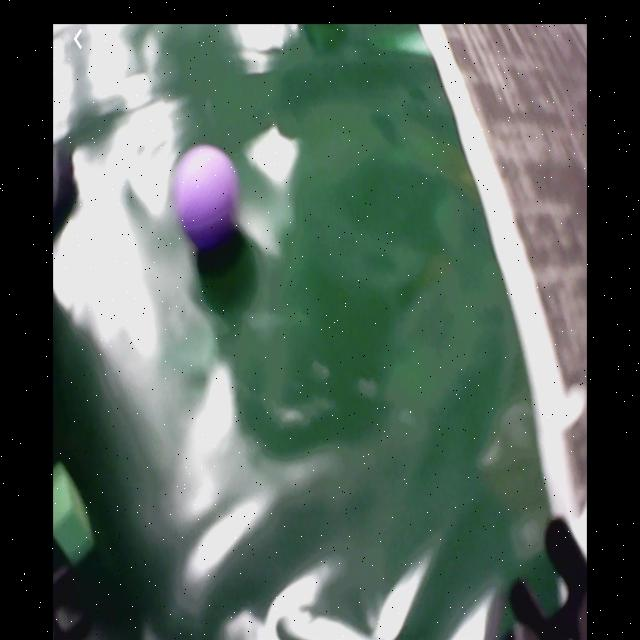ball: (176, 146, 238, 244)
